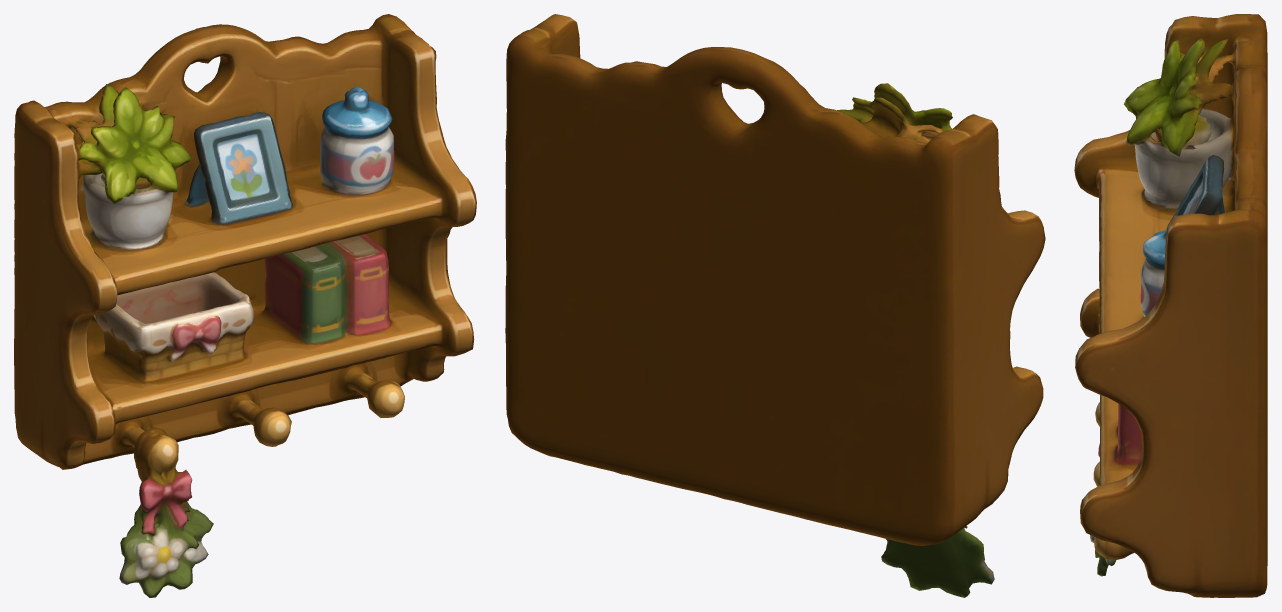
The model's file is Wood_wallshelf.glb.
The picture shows the model from 3 angles, left to right: view 1: azimuth 30°, elevation 25°; view 2: azimuth 150°, elevation 25°; view 3: azimuth 270°, elevation 25°; orthographic projection. The views are drawn at different scales.
Parts seen in each view (by area): view 1: RETOPO; view 2: RETOPO; view 3: RETOPO.
Part boxes in pixels (x1,y1,x2,y2): RETOPO: (14, 14, 476, 597); RETOPO: (505, 14, 1045, 597); RETOPO: (1074, 14, 1267, 597).
Bounding box in the file's own units: 0.8102 × 0.985 × 0.3148.
Materials: 1 (1 with a texture image).
